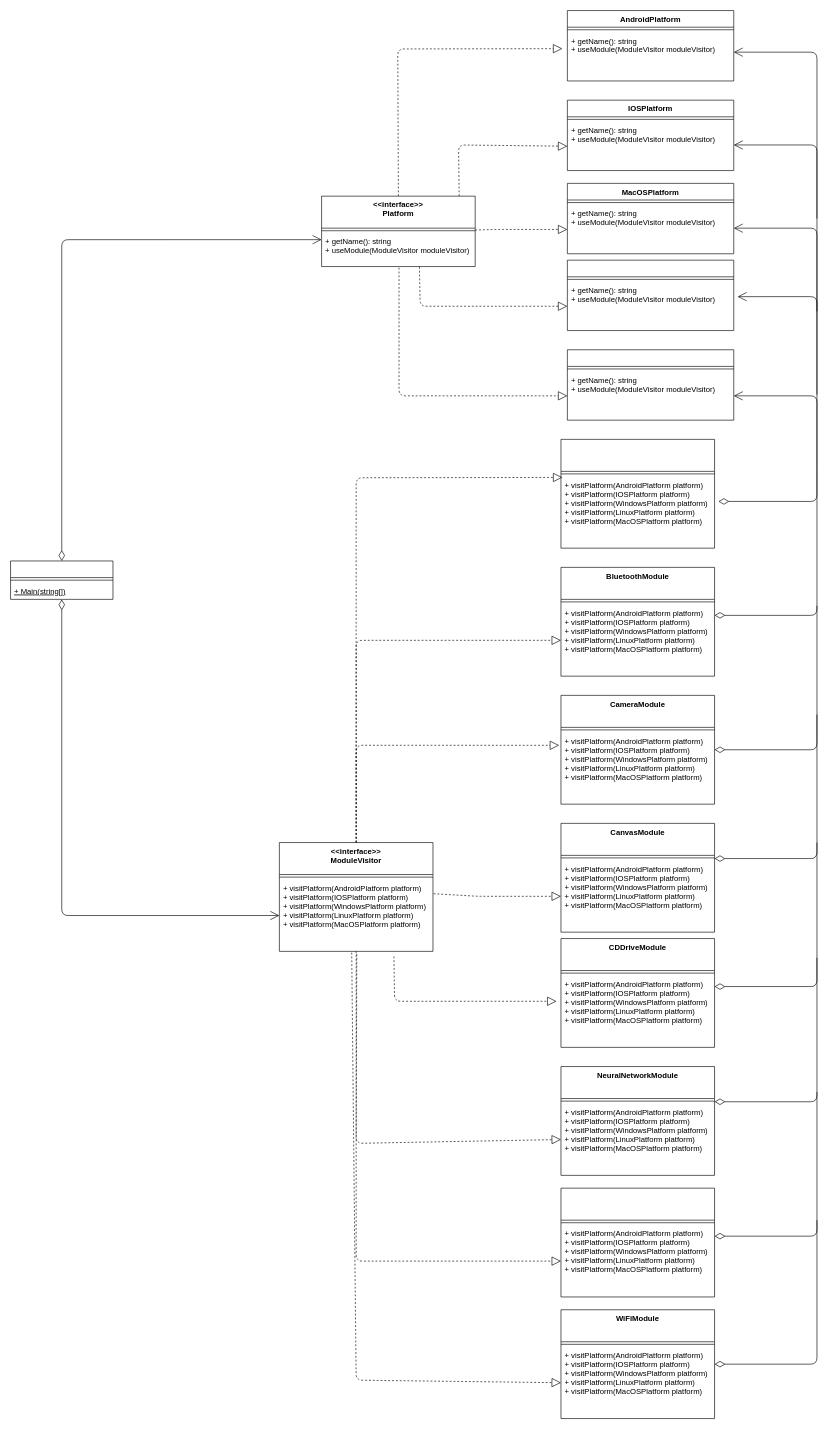
This 828x1429 diagram has some shape labels left out. The box of each missing label's shape, as (x1, y1, x2, y2) in pixels:
AudioModule: (560, 439, 715, 548)
LinuxPlatform: (567, 260, 734, 331)
Program: (10, 560, 113, 599)
RadioModule: (560, 1188, 715, 1297)
WindowsPlatform: (567, 349, 734, 420)
